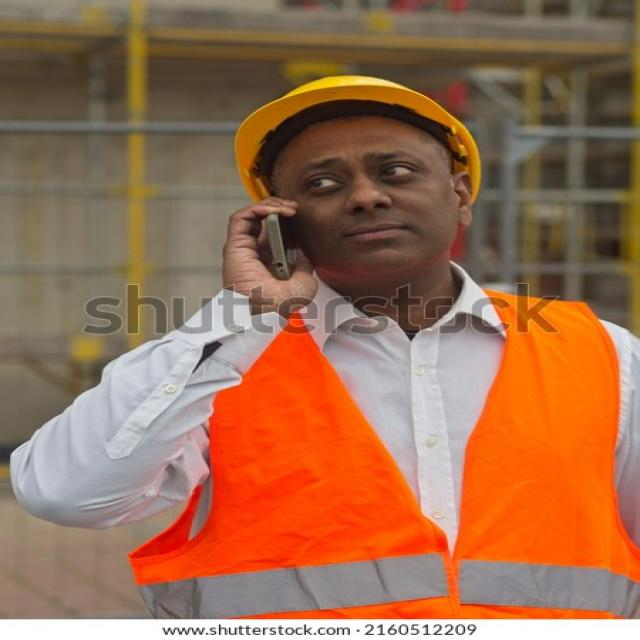Reflective-Jacket: (119, 283, 640, 618)
Safety-Helmet: (223, 66, 485, 187)
